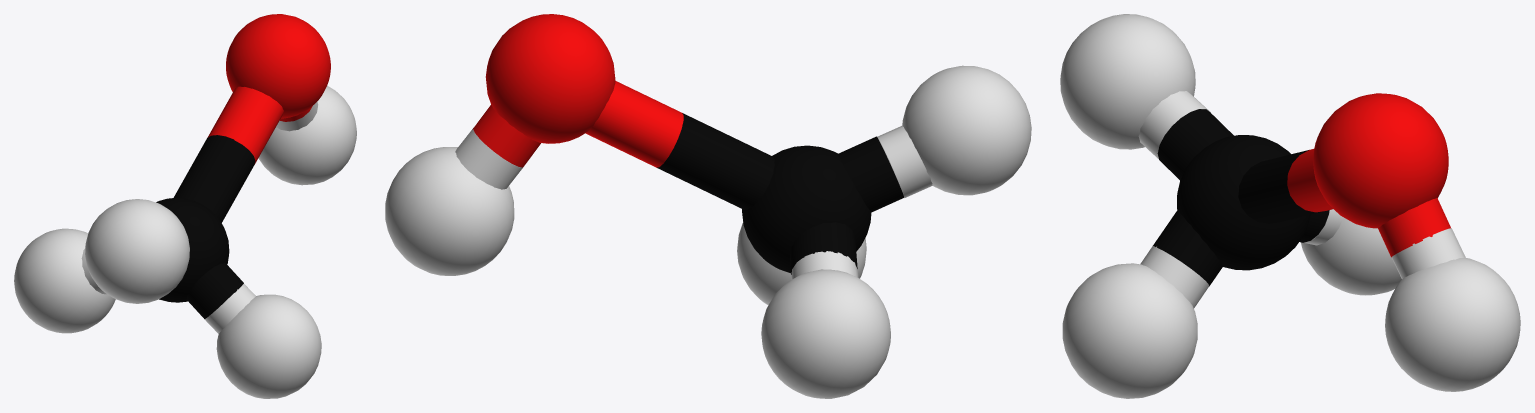
The model's file is uploads_files_2040650_Methanol.FBX.
The picture shows the model from 3 angles, left to right: view 1: azimuth 30°, elevation 25°; view 2: azimuth 150°, elevation 25°; view 3: azimuth 270°, elevation 25°; orthographic projection. The views are drawn at different scales.
Parts seen in each view (by area): view 1: Sphere026, Sphere024, Sphere028, Sphere025, Sphere027, Cylinder044, Sphere023, Cylinder051, Cylinder046, Cylinder045, Cylinder052; view 2: Sphere025, Sphere028, Sphere026, Sphere027, Sphere023, Cylinder044, Cylinder051, Cylinder049, Sphere024, Cylinder050, Cylinder053, Cylinder052 (+2 smaller); view 3: Sphere024, Sphere027, Sphere028, Sphere026, Sphere023, Sphere025, Cylinder044, Cylinder049, Cylinder046, Cylinder053, Cylinder052, Cylinder050 (+4 smaller).
Part boxes in pixels (x1,y1,x2,y2): Sphere026: (85, 199, 189, 303); Sphere024: (216, 294, 321, 398); Sphere028: (226, 14, 330, 118); Sphere025: (14, 228, 115, 333); Sphere027: (258, 85, 356, 185); Cylinder044: (173, 135, 255, 222); Sphere023: (156, 197, 229, 302); Cylinder051: (207, 86, 283, 164); Cylinder046: (186, 263, 243, 318); Cylinder045: (204, 284, 255, 333); Cylinder052: (276, 102, 318, 131); Sphere025: (761, 269, 890, 398); Sphere028: (485, 14, 615, 143); Sphere026: (902, 65, 1031, 195); Sphere027: (385, 147, 514, 275); Sphere023: (742, 145, 871, 273); Cylinder044: (657, 113, 774, 209); Cylinder051: (585, 81, 683, 167); Cylinder049: (838, 136, 903, 212); Sphere024: (737, 222, 866, 305); Cylinder050: (877, 125, 932, 197); Cylinder053: (472, 105, 540, 167); Cylinder052: (455, 127, 522, 189); Sphere024: (1062, 263, 1197, 398); Sphere027: (1385, 258, 1520, 391); Sphere028: (1313, 93, 1448, 228); Sphere026: (1060, 14, 1195, 149); Sphere023: (1177, 135, 1310, 270); Sphere025: (1301, 218, 1401, 295); Cylinder044: (1238, 150, 1323, 223); Cylinder049: (1157, 109, 1233, 180); Cylinder046: (1153, 210, 1222, 286); Cylinder053: (1378, 198, 1450, 257); Cylinder052: (1391, 228, 1465, 278); Cylinder050: (1138, 91, 1210, 158).
Bounding box in the file's own units: 48.24 × 33.48 × 38.83.
